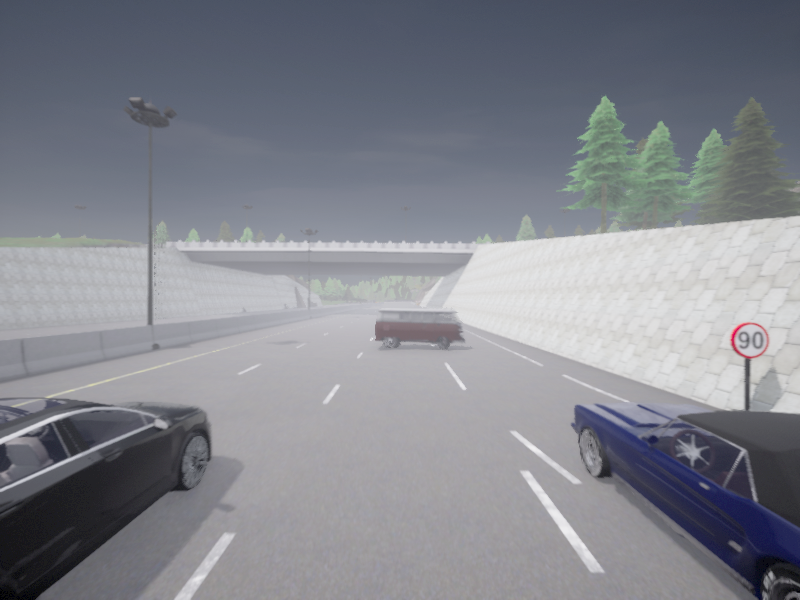vehicle: (570, 402, 799, 599), (0, 397, 212, 599), (375, 308, 466, 349)
